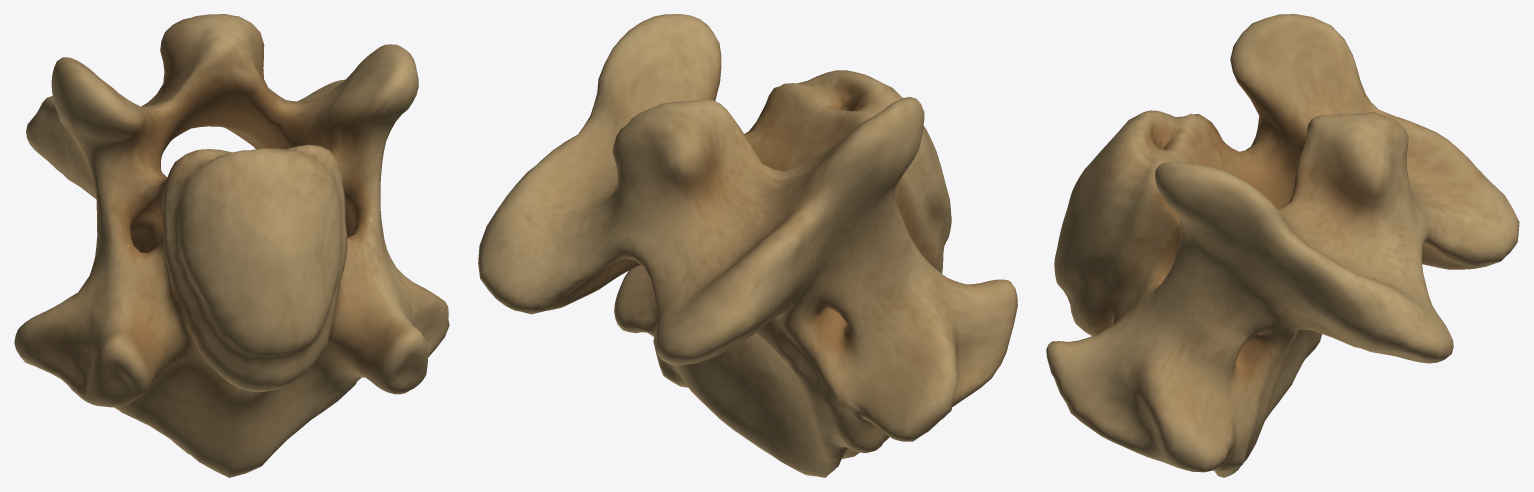
3 renders of one model, left to right at view 1: azimuth 30°, elevation 25°; view 2: azimuth 150°, elevation 25°; view 3: azimuth 270°, elevation 25°, orthographic. The views are drawn at different scales.
Parts seen in each view (by area): view 1: Group21260; view 2: Group21260; view 3: Group21260.
Part boxes in pixels (x1,y1,x2,y2): Group21260: (14, 14, 449, 477); Group21260: (478, 14, 1017, 477); Group21260: (1046, 14, 1519, 477).
Size of the model in its own units: 60.72 by 59.12 by 64.33.
1 material, 1 textured.
